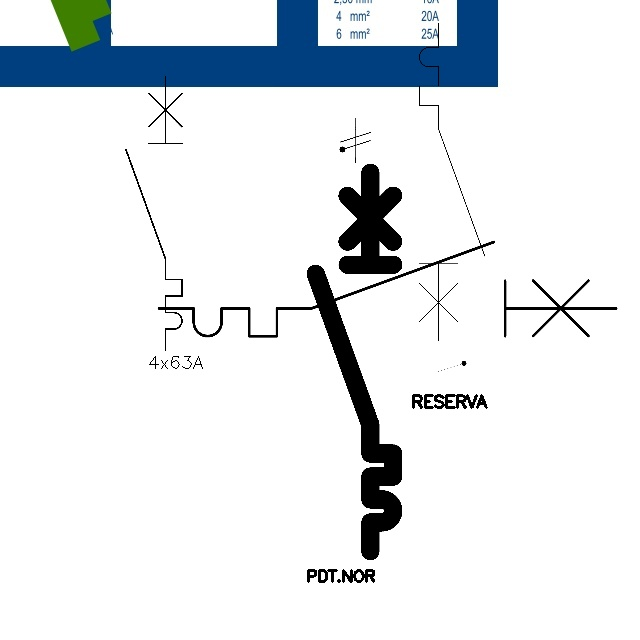interruptor_termomagnetico: (147, 230, 627, 348), (306, 162, 403, 560), (411, 15, 492, 349), (119, 70, 189, 357)
